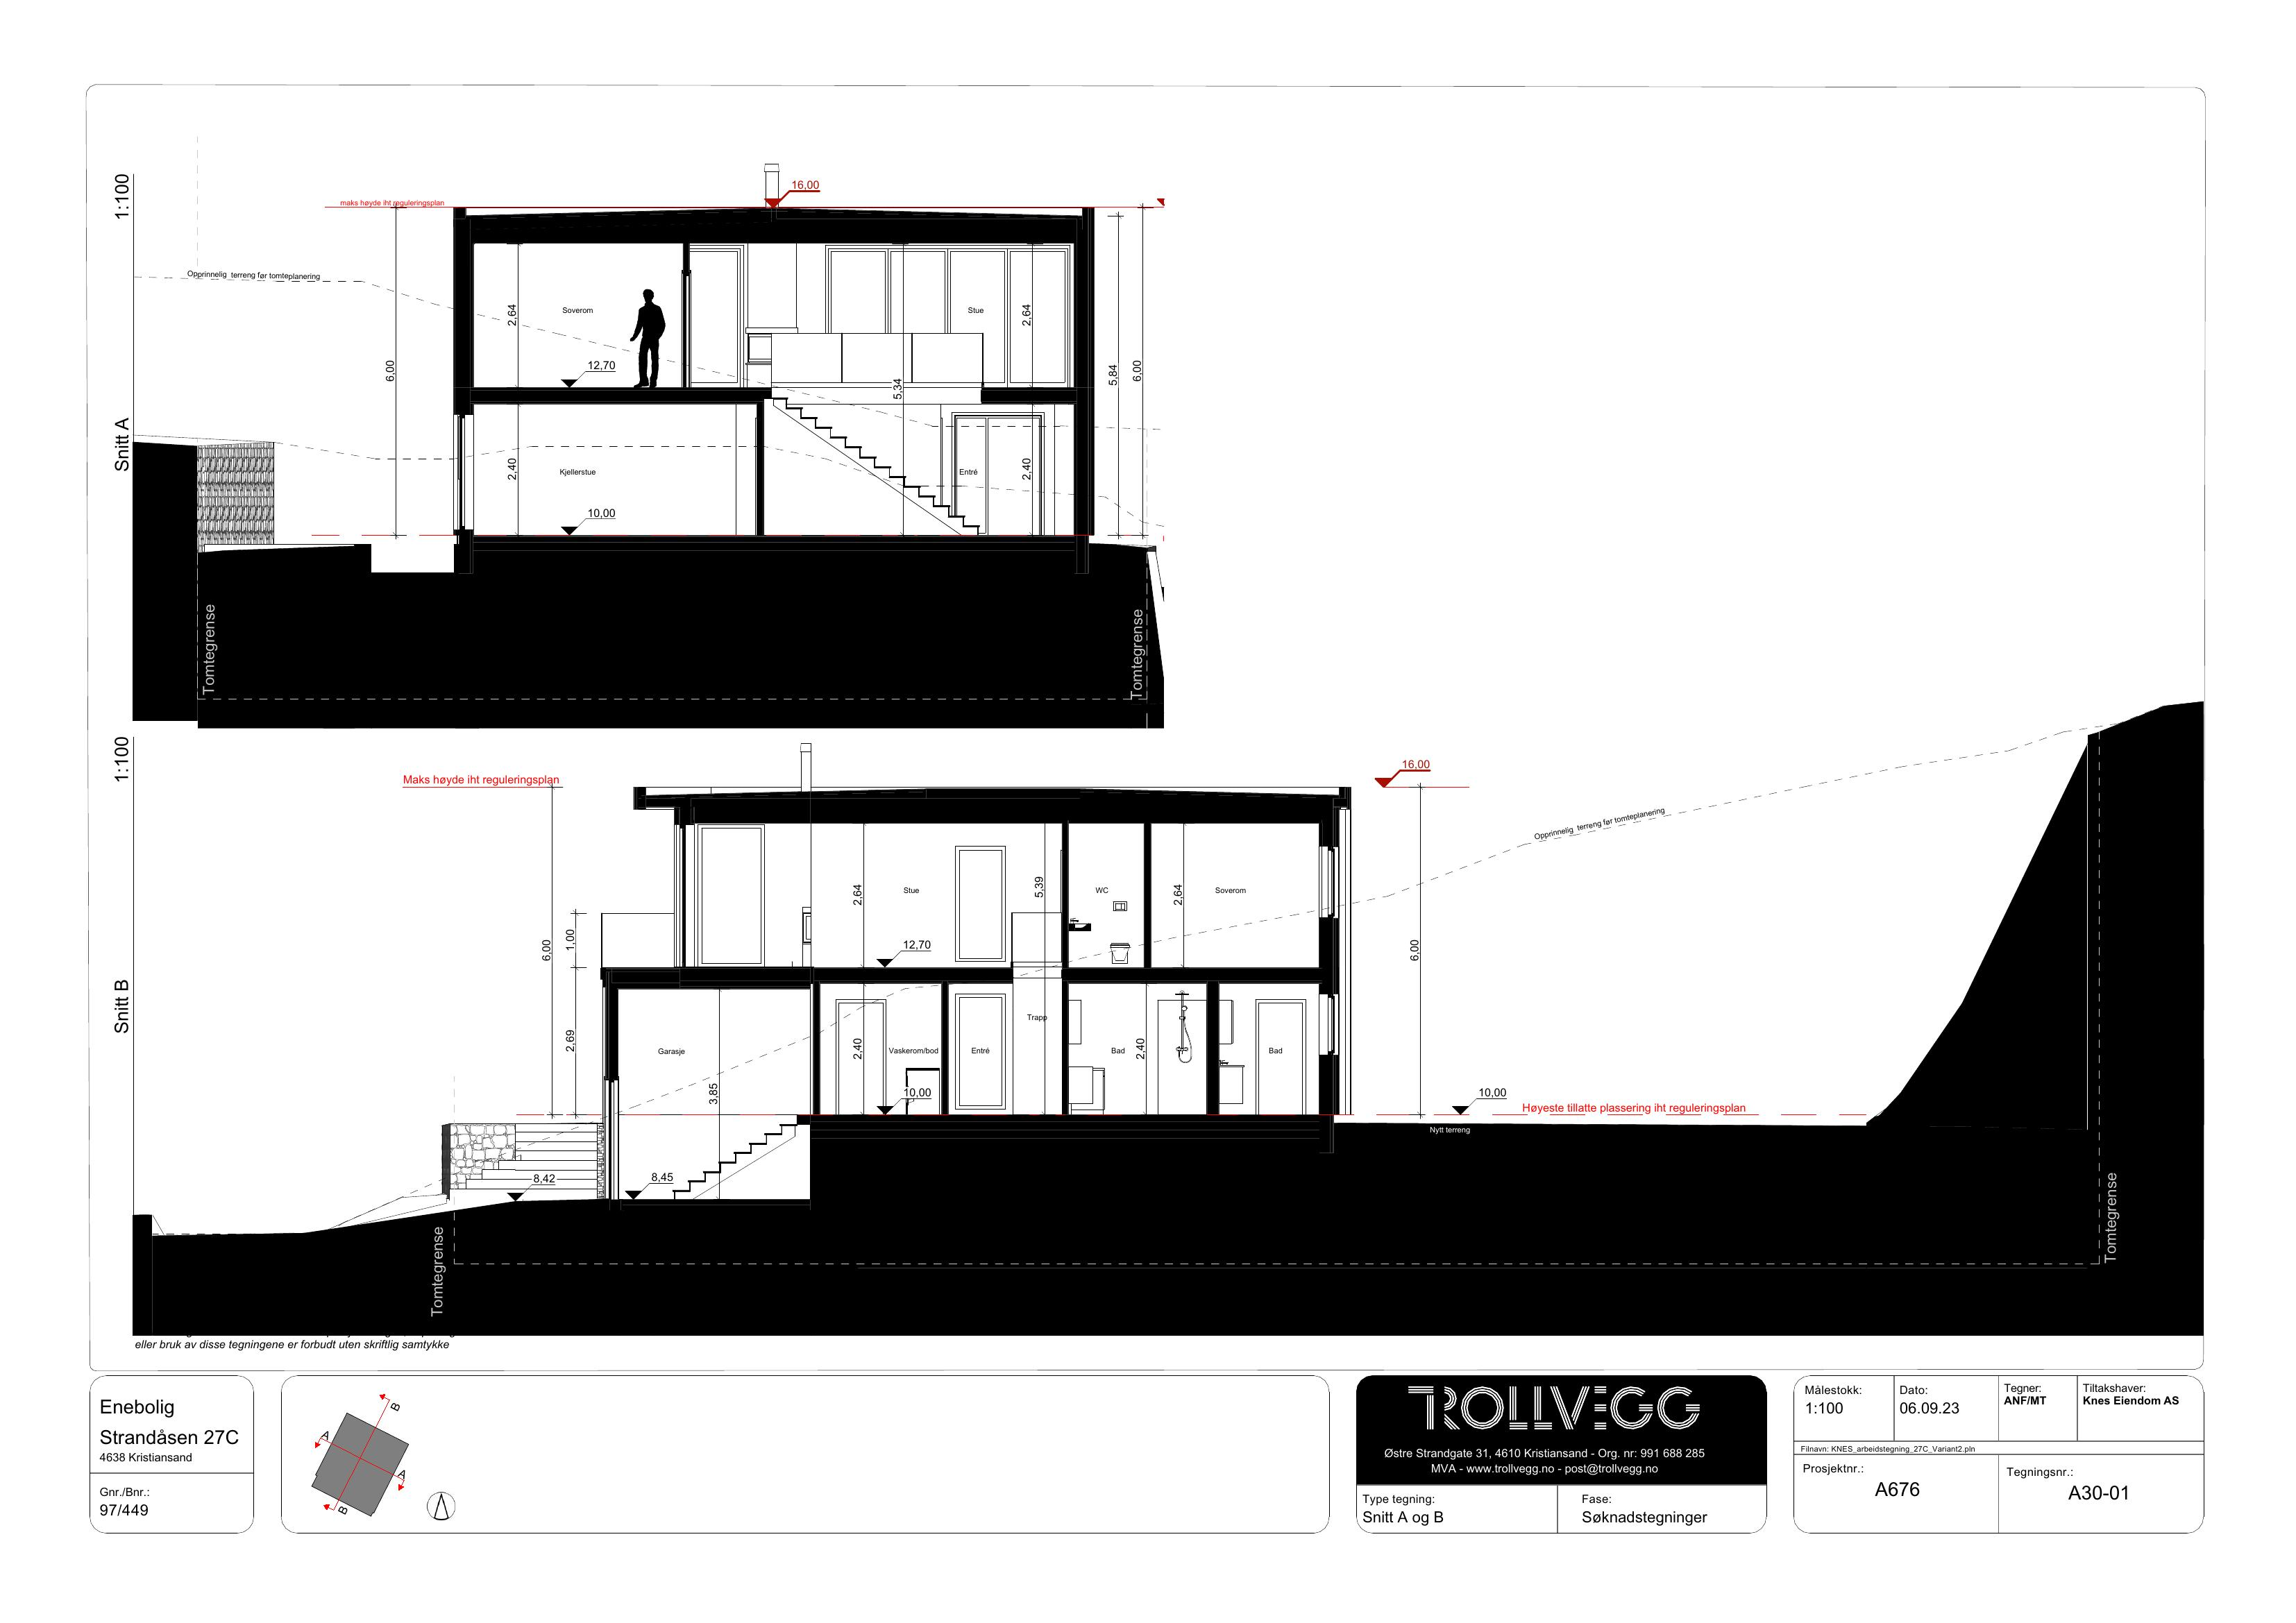snitt: (423, 764, 1453, 1223), (362, 126, 1180, 573)
